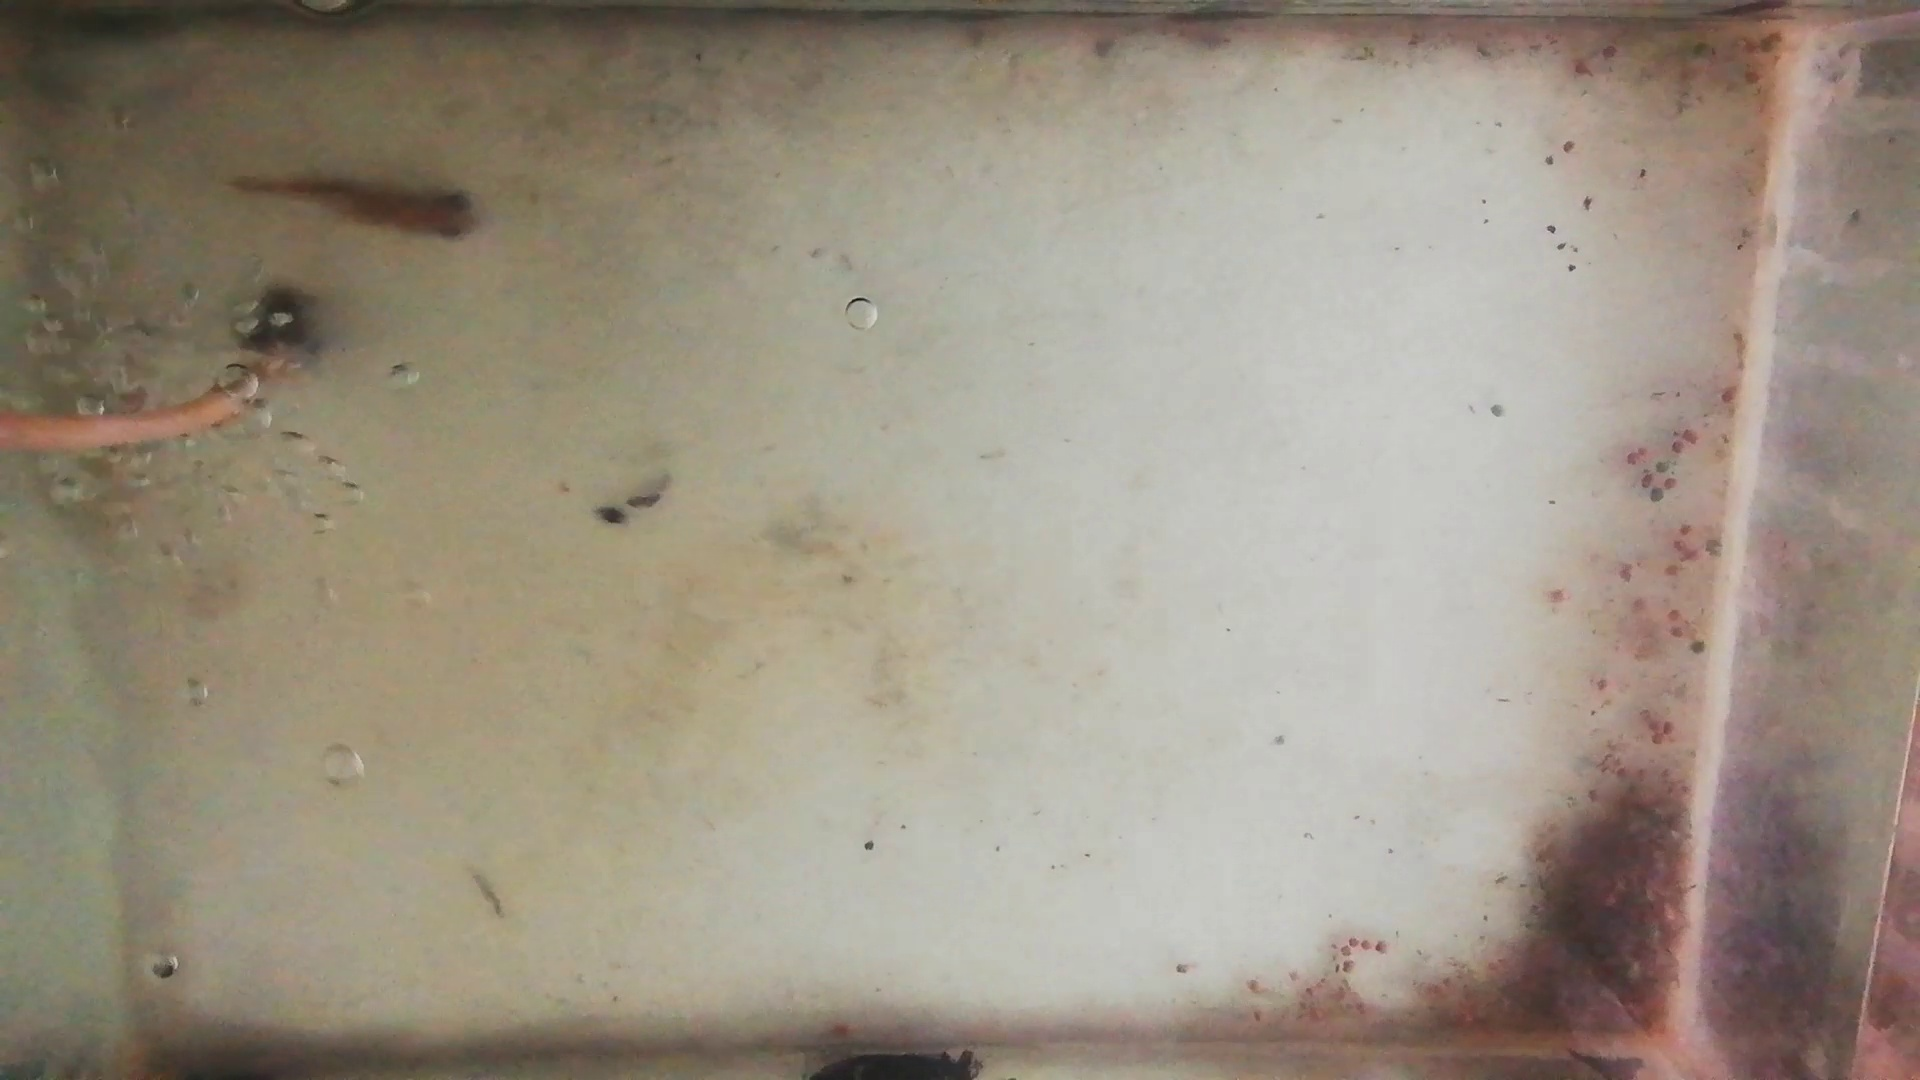fish: (229, 175, 481, 247)
